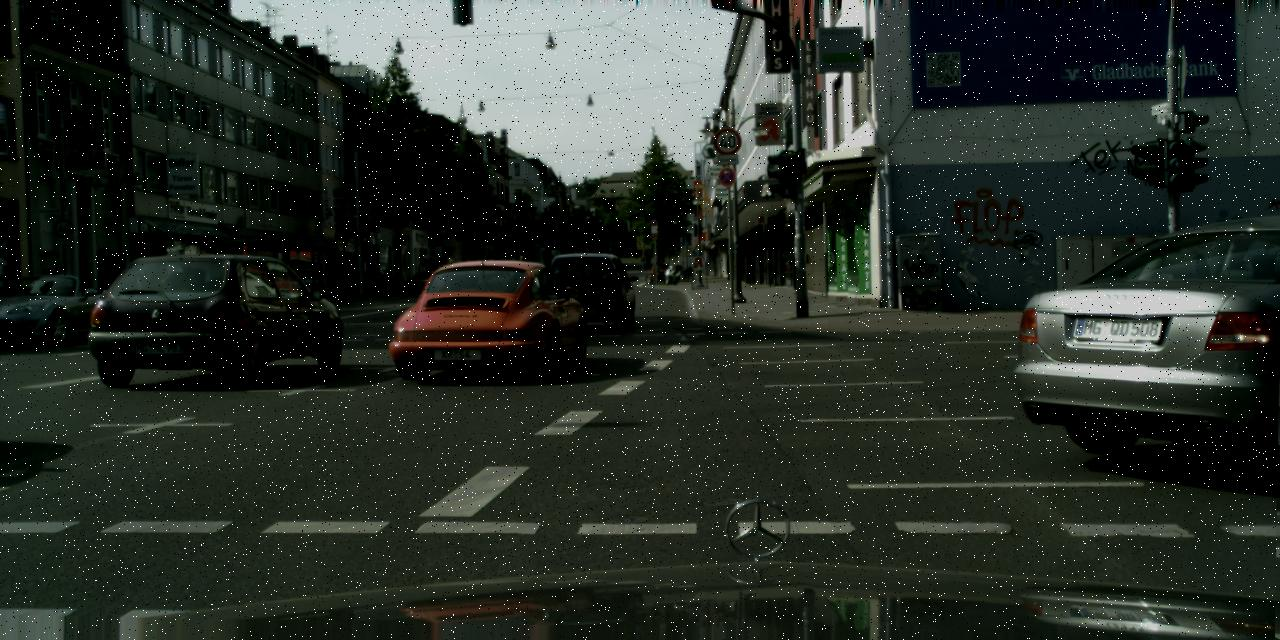ped: (44, 264, 67, 320)
